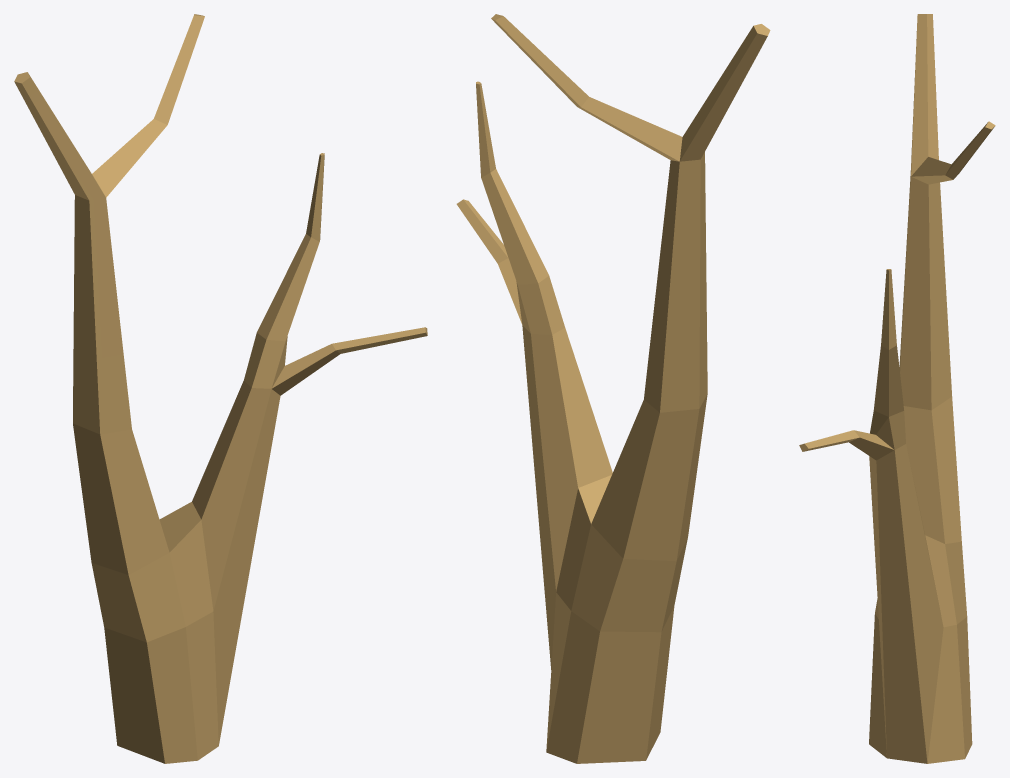
File: tree1.fbx
3 renders of one model, left to right at view 1: azimuth 30°, elevation 25°; view 2: azimuth 150°, elevation 25°; view 3: azimuth 270°, elevation 25°, orthographic. The views are drawn at different scales.
Visible parts, largest first — view 1: Simple_Tree_NoLeaves_m_03; view 2: Simple_Tree_NoLeaves_m_03; view 3: Simple_Tree_NoLeaves_m_03.
Boxes of the visible parts, x1,y1,x2,y2 form: Simple_Tree_NoLeaves_m_03: [14, 14, 427, 763]; Simple_Tree_NoLeaves_m_03: [456, 14, 770, 763]; Simple_Tree_NoLeaves_m_03: [799, 14, 995, 763].
Size of the model in its own units: 151 by 296 by 565.
1 material, 1 textured.
